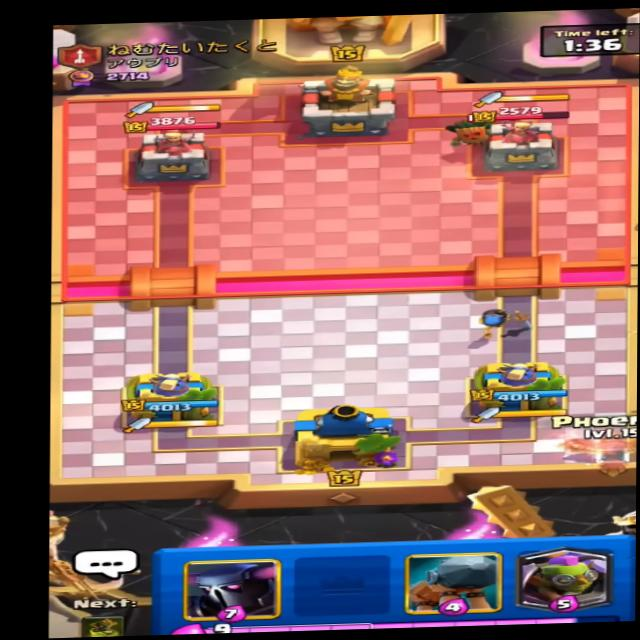dart-goblin: (442, 112, 500, 151)
